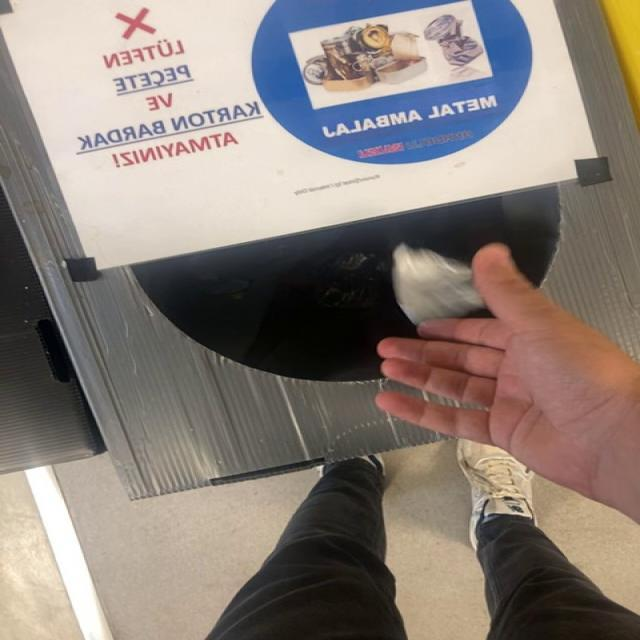Bin: (0, 0, 639, 498)
Metal: (393, 243, 485, 326)
